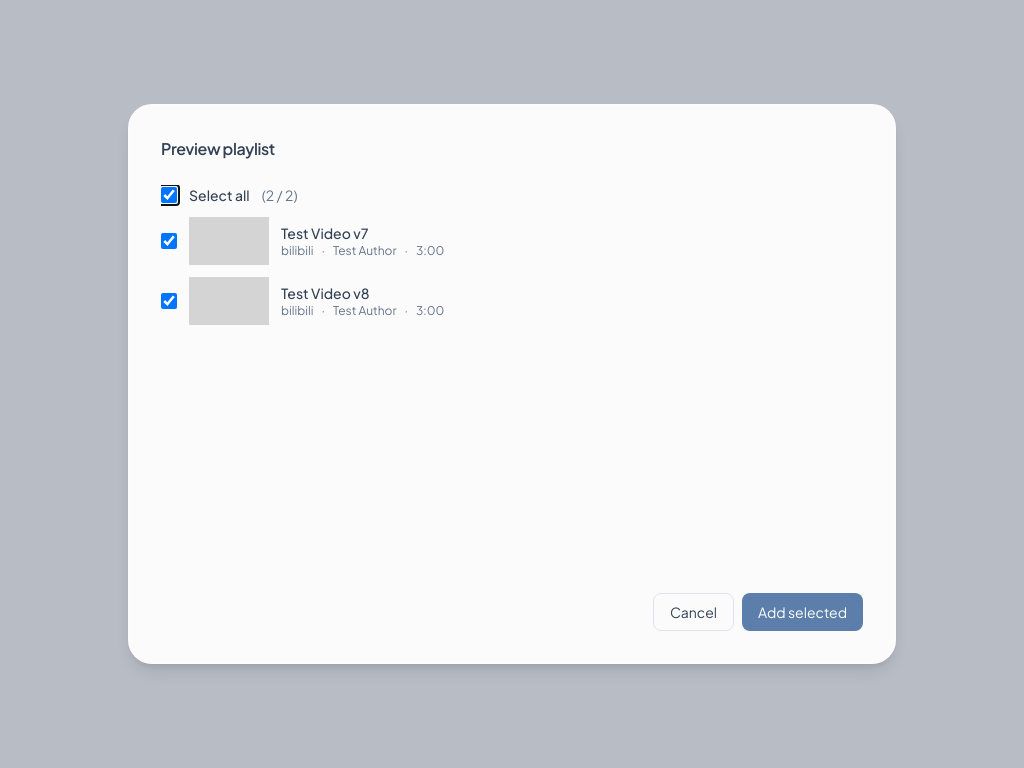
Test: PlaylistPreviewModal › master: unchecking one row → checked=false, indeterminate=true
The image size is (1024, 768).
What coordinates should you click on to do the following:
click the checkbox with test id "^row-checkbox-"
I would click on:
 (169, 241)
Its box is [161,233,177,249].
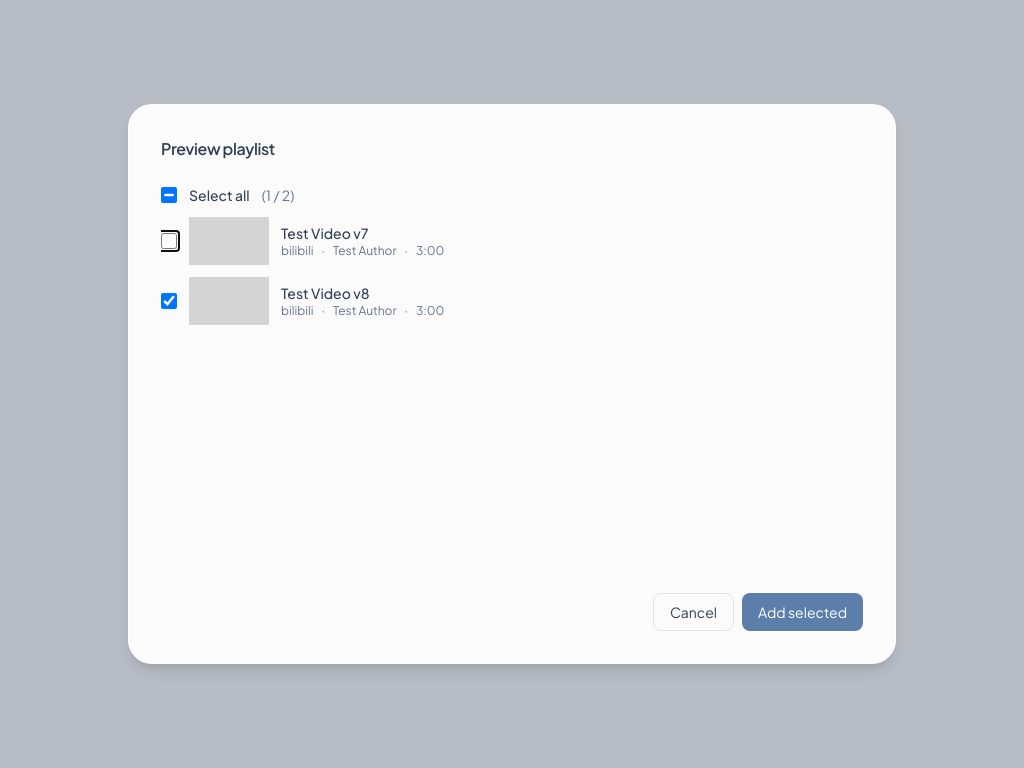
Expected: the checkbox with test id "master-checkbox" is not checked, [161,187,177,203]
